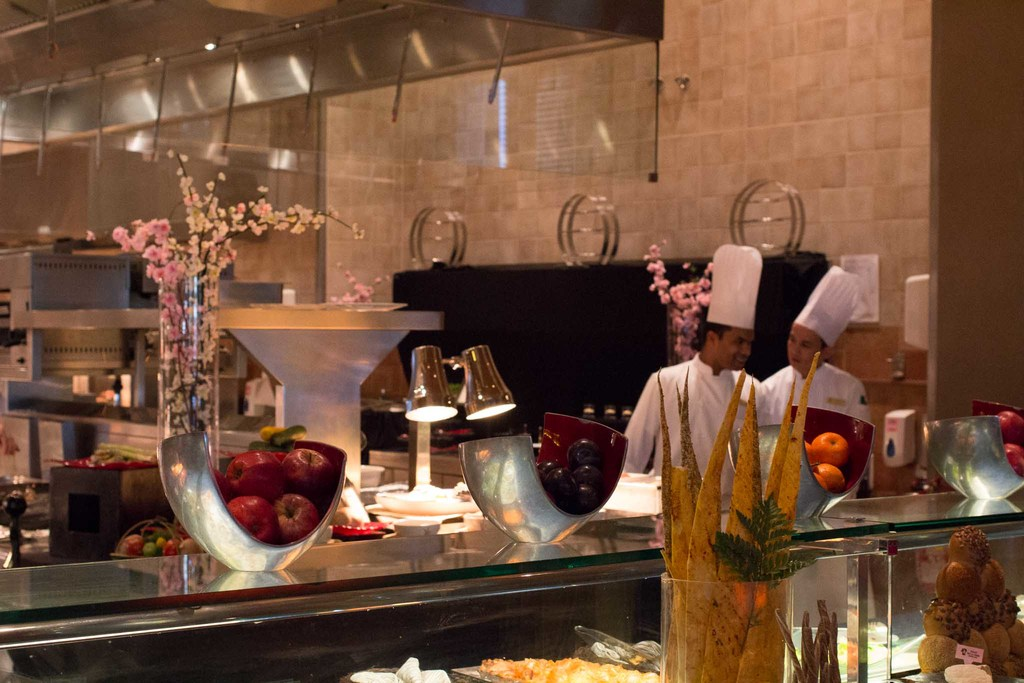Apple: (227, 449, 281, 500), (226, 495, 281, 542), (280, 446, 336, 491), (275, 492, 321, 540), (999, 408, 1023, 441), (1002, 442, 1023, 477), (215, 469, 230, 501)
